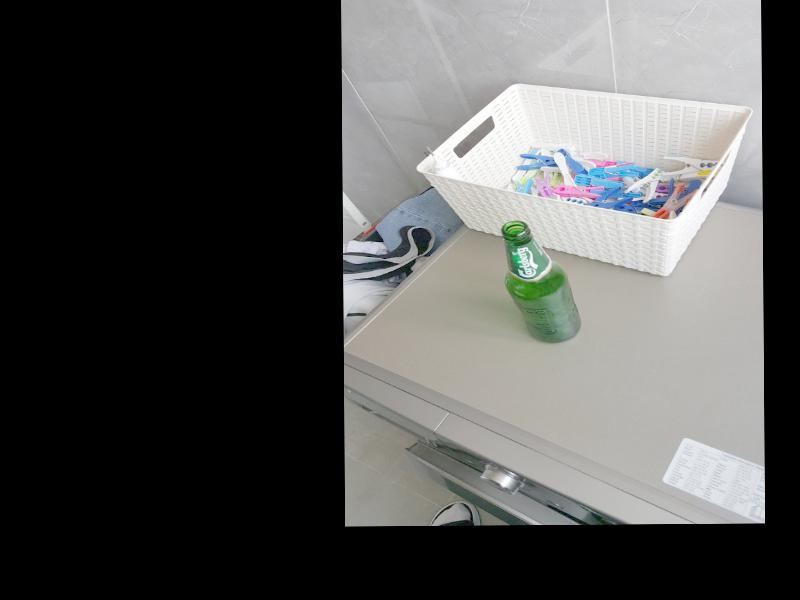Beer: (502, 219, 581, 343)
